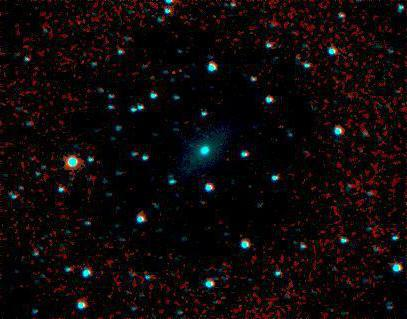star: (161, 57, 191, 87)
